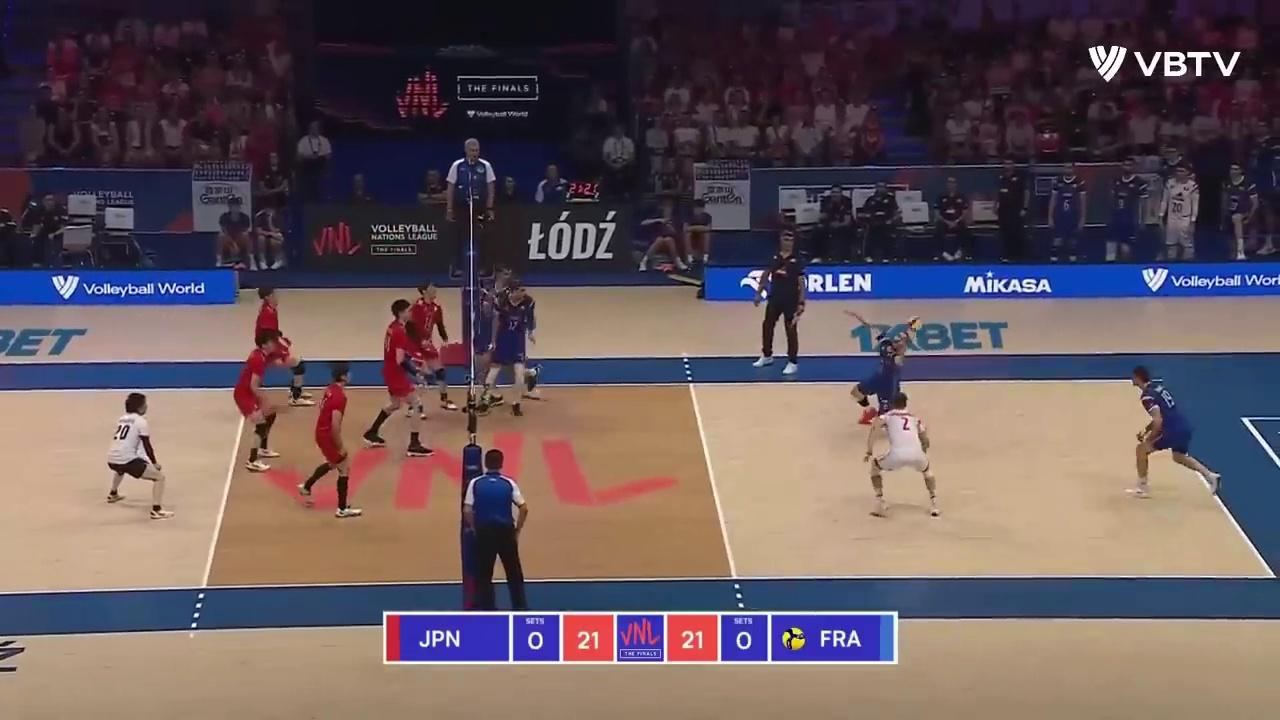ball: (907, 316, 922, 333)
